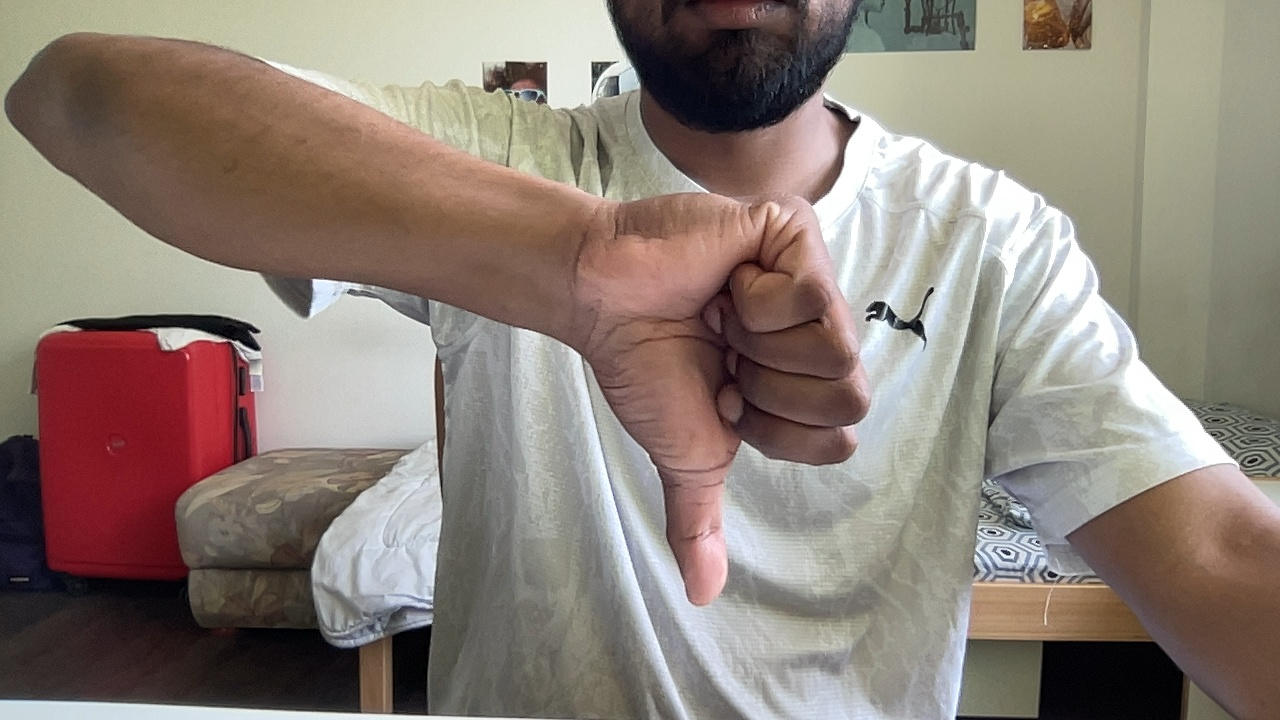ThumbsDown: (571, 189, 874, 612)
